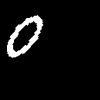chain: (7, 15, 42, 56)
